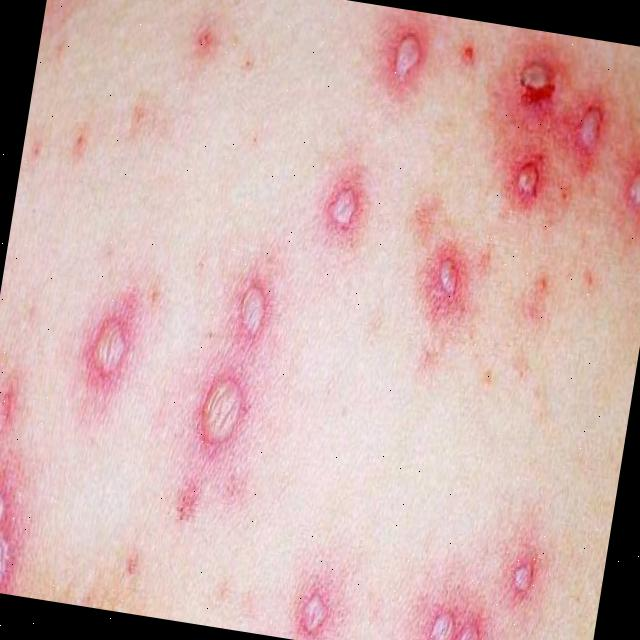kan emici bocekler: (411, 230, 489, 332), (191, 356, 260, 462), (320, 152, 381, 245), (80, 302, 143, 390), (226, 263, 284, 354), (380, 16, 435, 97), (500, 541, 551, 612), (506, 144, 557, 211), (512, 53, 565, 113), (292, 578, 342, 640), (573, 90, 615, 154), (421, 596, 469, 640), (1, 522, 27, 593), (446, 606, 495, 640), (1, 474, 21, 540)
